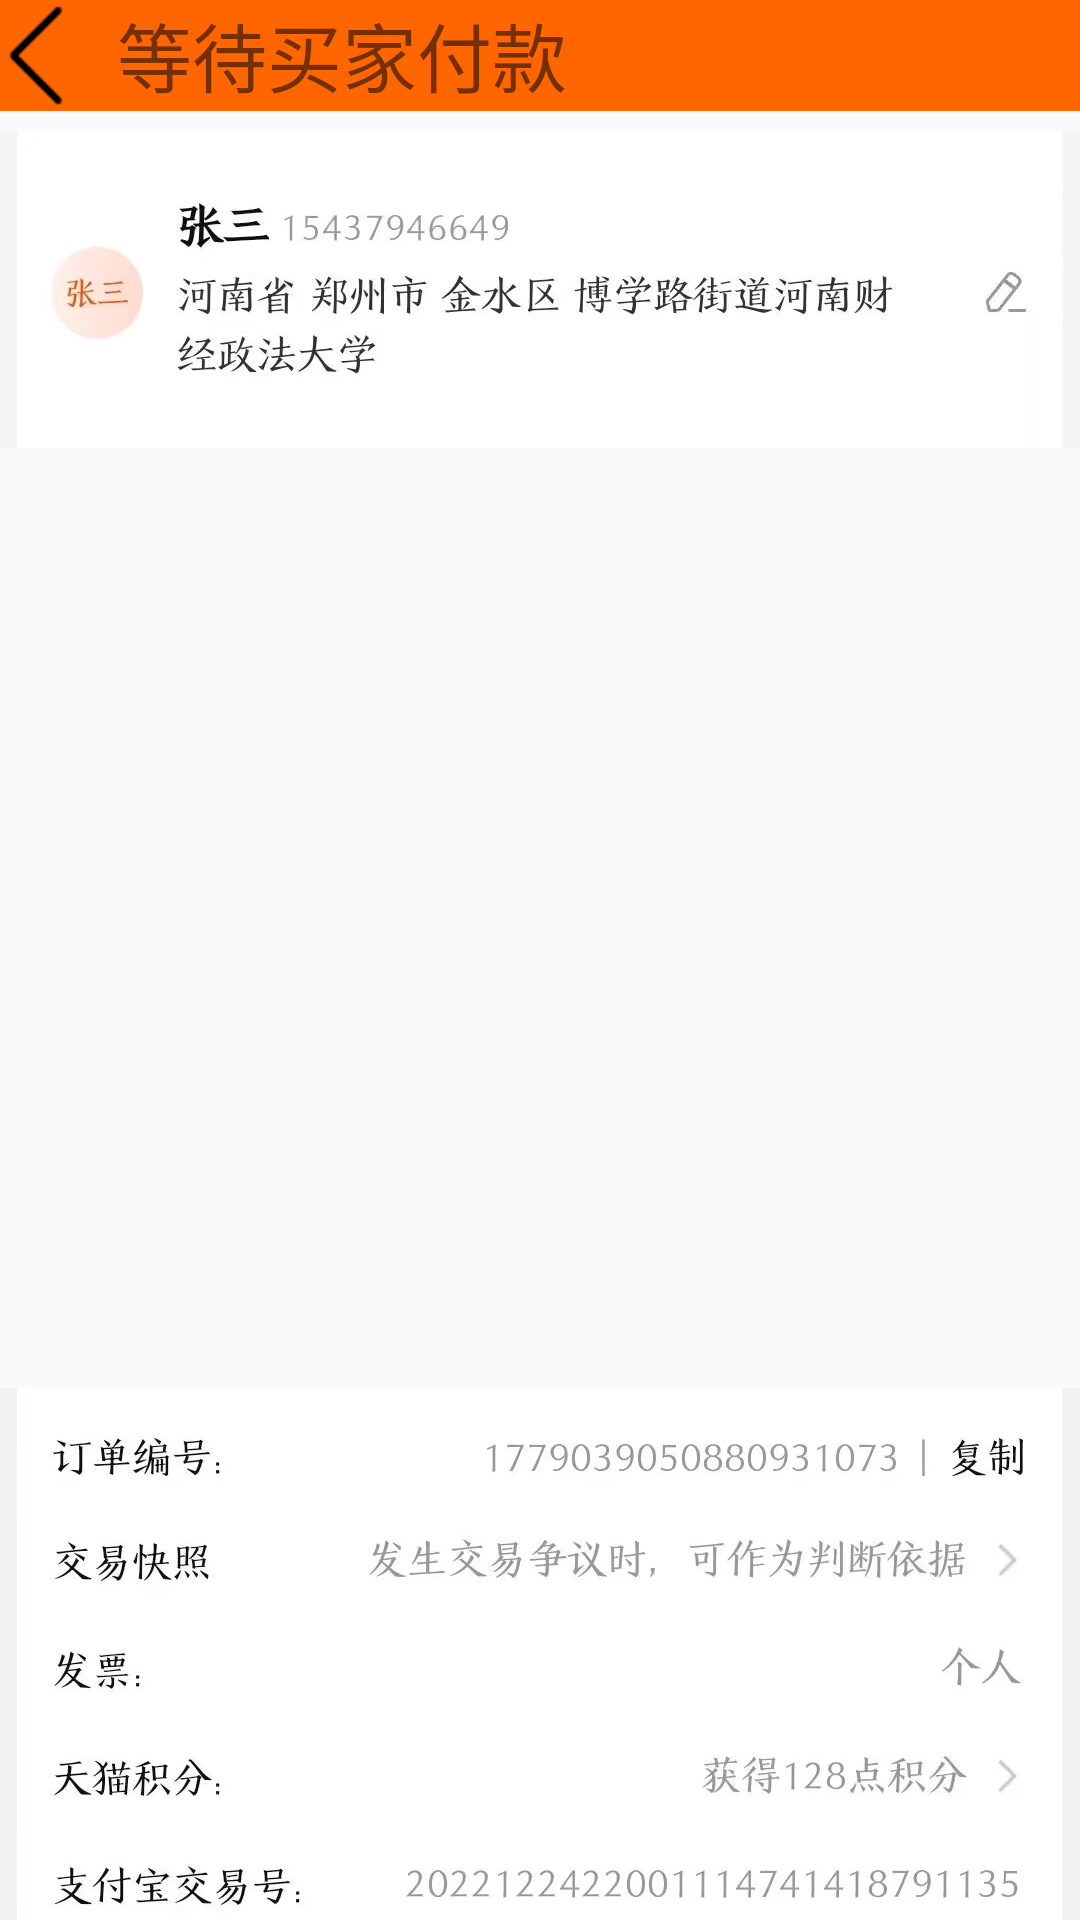

Where to tap for icons on this 1080x1920 app screen, as (x,y):
fhui: (36,55)
